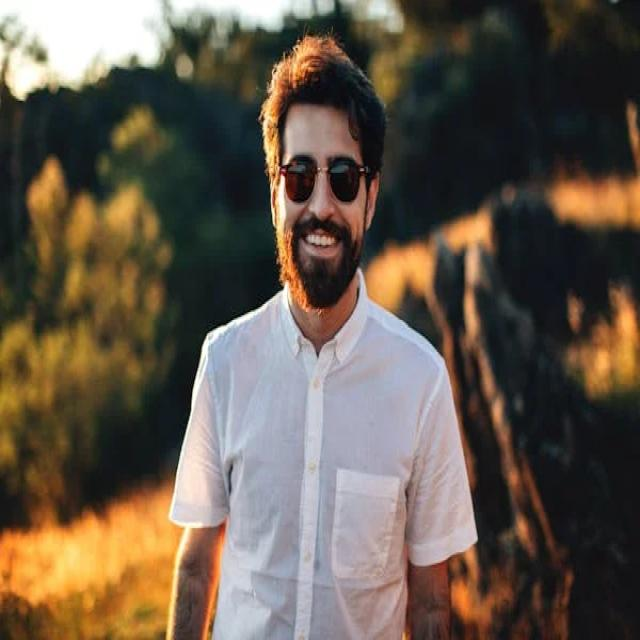Real human 2: (166, 22, 490, 640)
